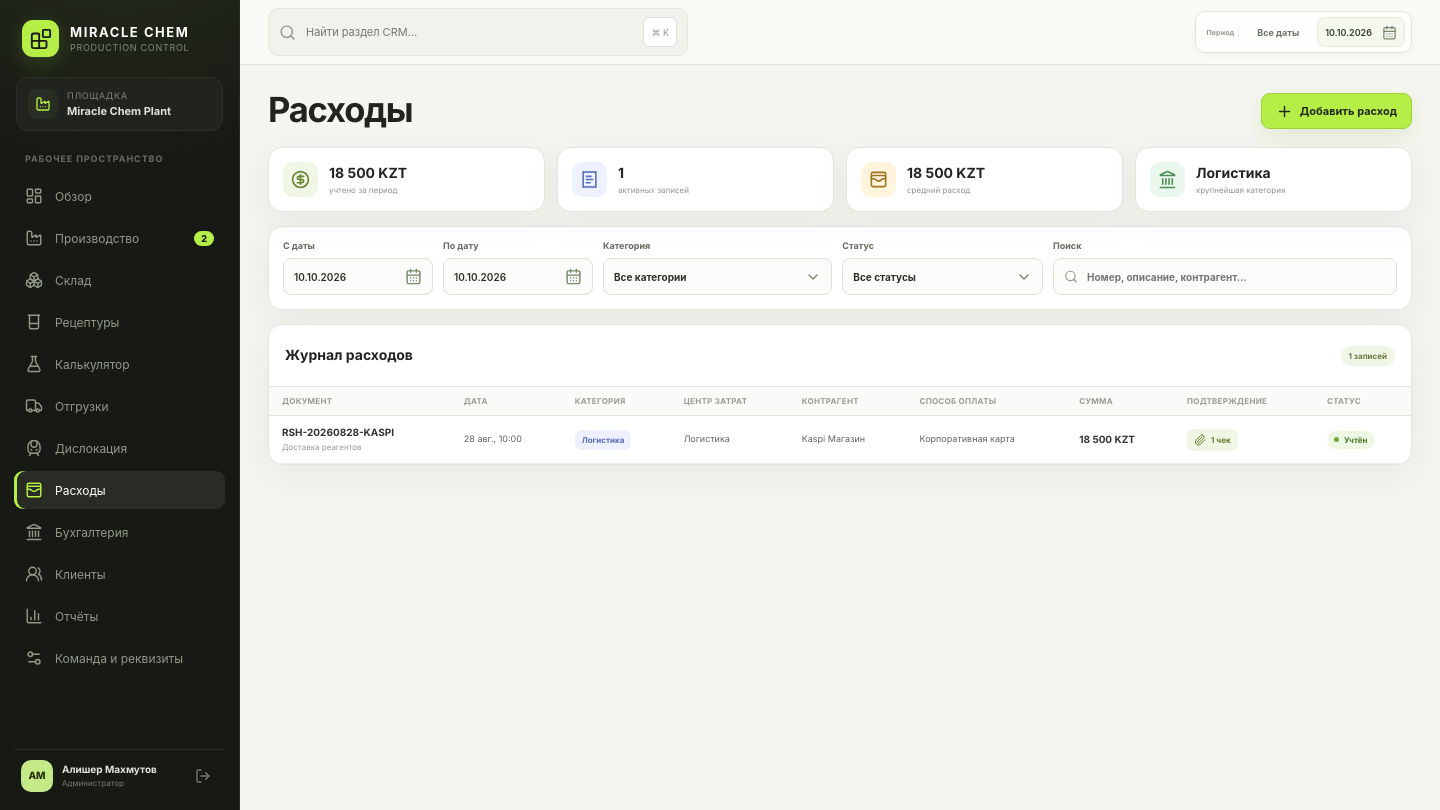
Scenario: Miracle Chem app shell › creates a new expense from an existing entry without copying its date or Kaspi receipts
Expected: the heading "Расходы" is shown, [268,93,412,129]
Click the text "RSH-20260828-KASPI": [338, 433] box [282,427,394,439]
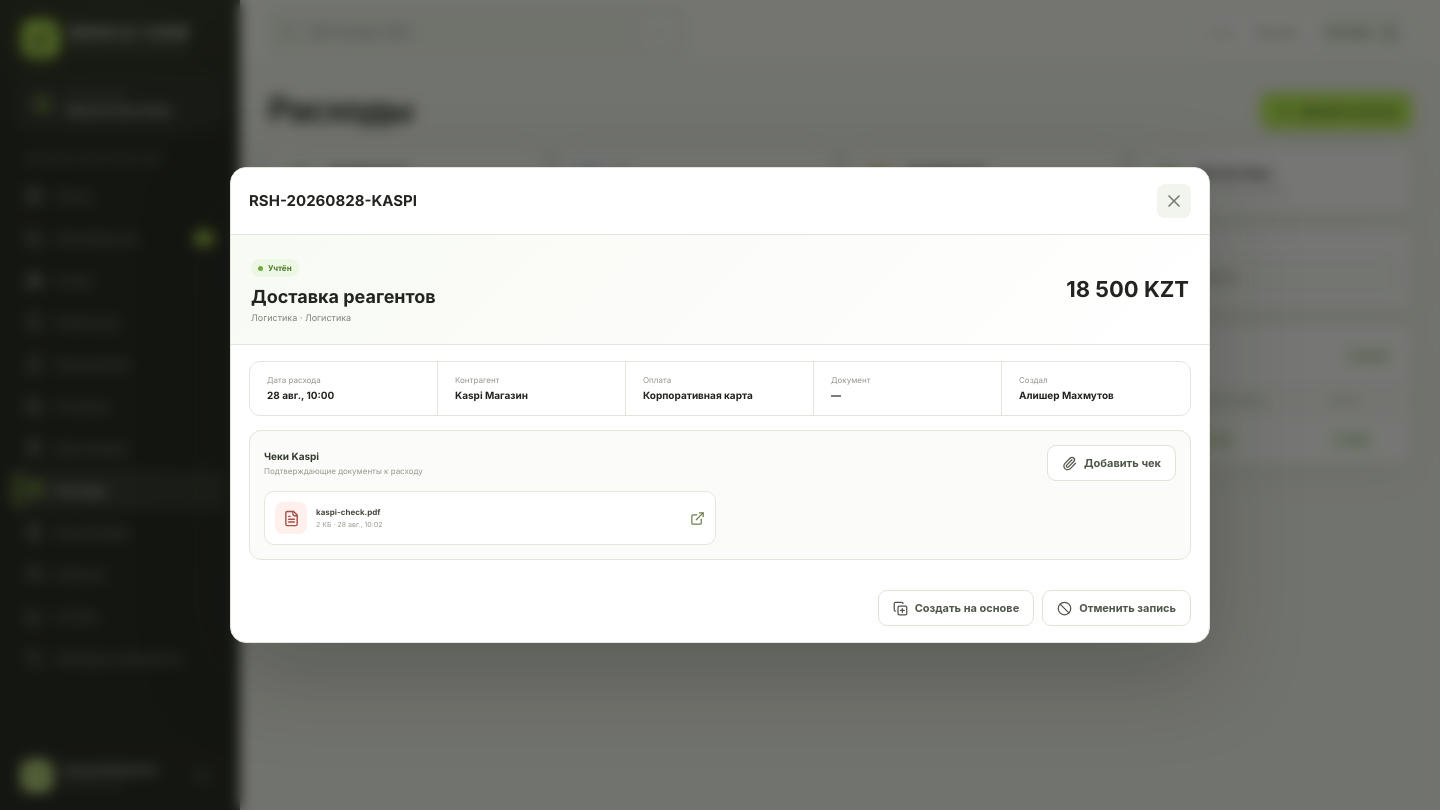
Click the button "Создать на основе": [956, 608] box [878,590,1034,626]
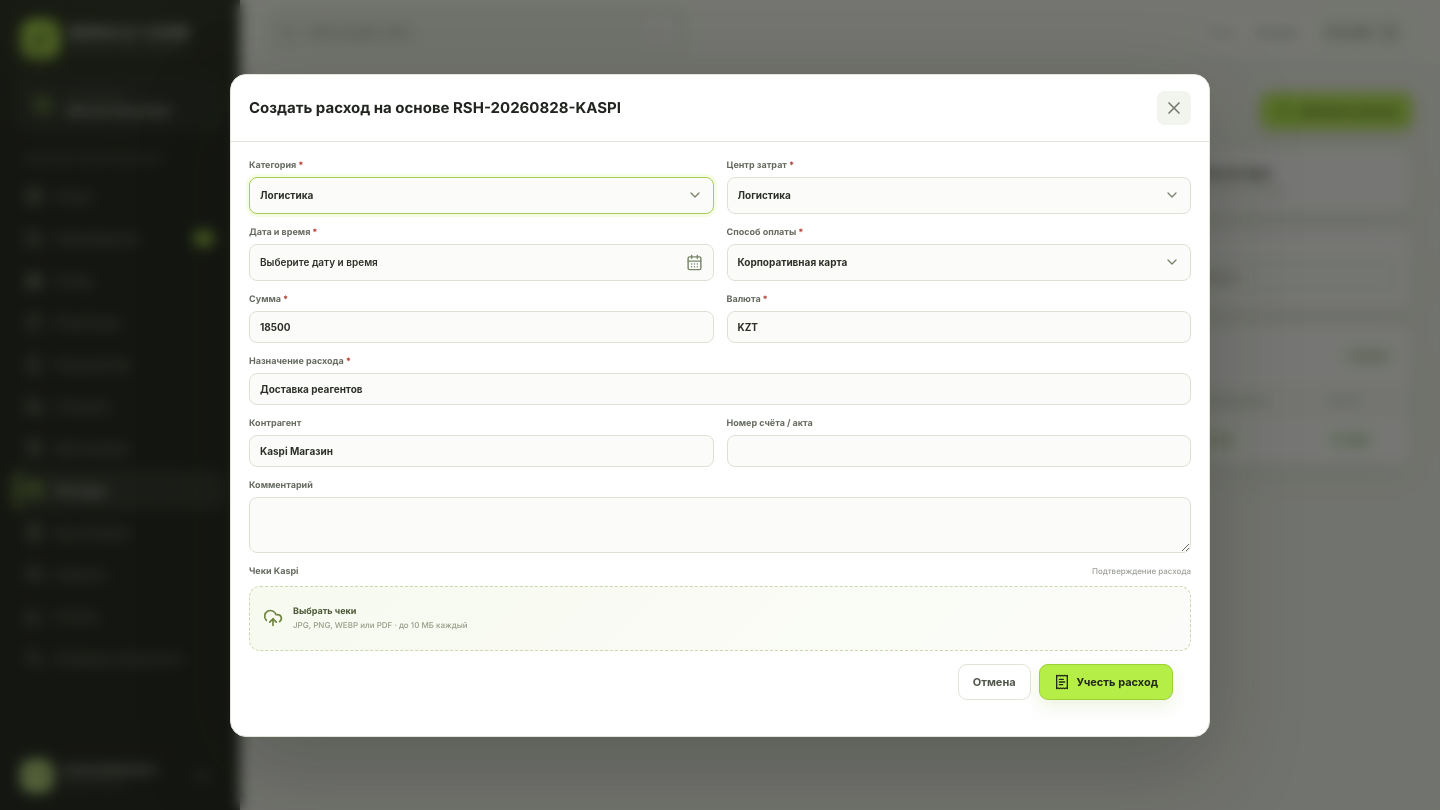
Expected: the field labelled "Назначение расхода" holds "Доставка реагентов", [249,372,1191,404]
Expected: the field labelled "Номер счёта / акта" is empty, [726,434,1191,466]
Expected: the link "kaspi-check.pdf" is gone
